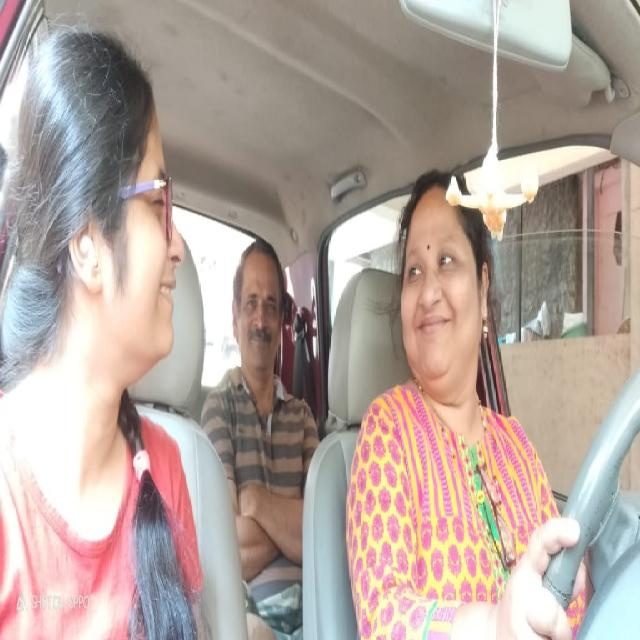LeftRight: (397, 166, 492, 381)
person: (26, 39, 185, 377), (231, 221, 286, 383)
